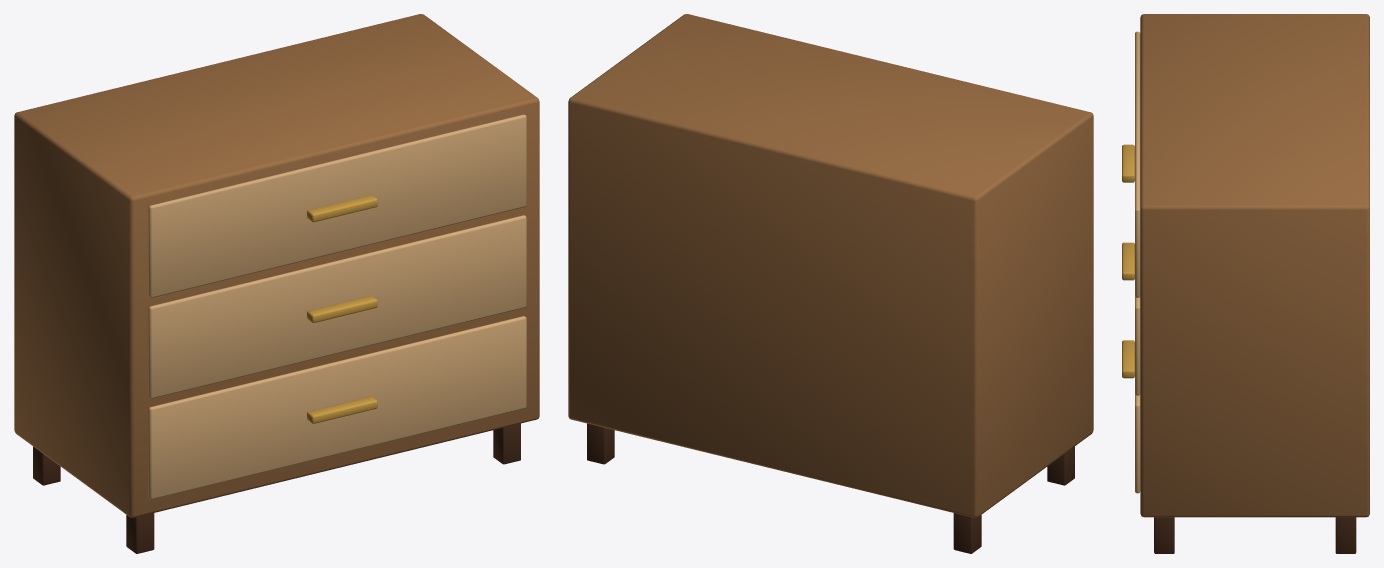
The model's file is Dresser_3Drawer.glb.
3 views of the same model, side by side, from view 1: azimuth 30°, elevation 25°; view 2: azimuth 150°, elevation 25°; view 3: azimuth 270°, elevation 25° (orthographic). The views are drawn at different scales.
Visible parts, largest first — view 1: Dresser_3Drawer; view 2: Dresser_3Drawer; view 3: Dresser_3Drawer.
Part boxes in pixels (x1,y1,x2,y2): Dresser_3Drawer: (14, 14, 539, 553); Dresser_3Drawer: (568, 14, 1093, 553); Dresser_3Drawer: (1122, 14, 1369, 553).
Bounding box in the file's own units: 1 × 0.85 × 0.54.
